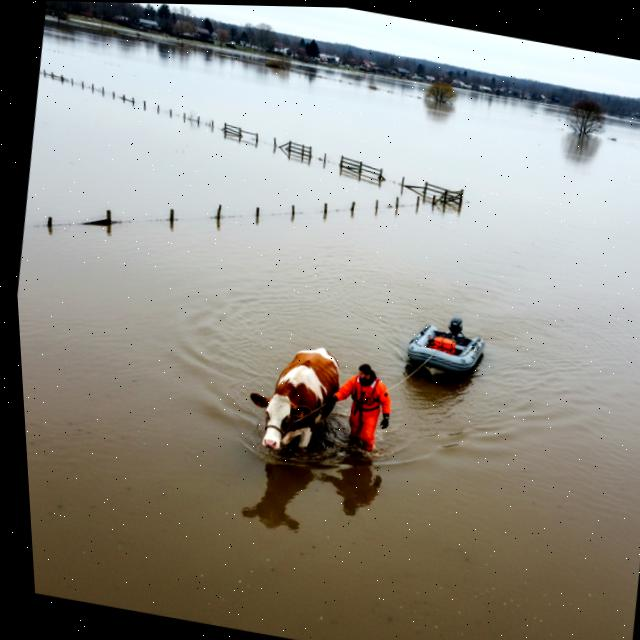cow: (228, 321, 358, 479)
rescuer: (319, 351, 415, 476)
